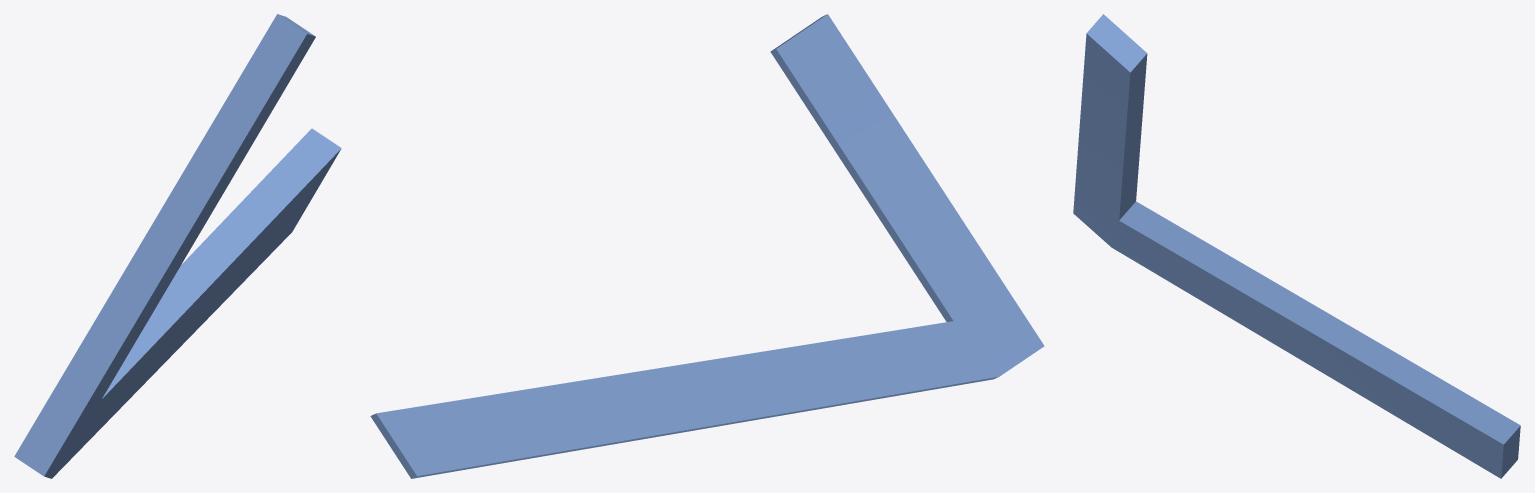
The model's file is New_Number_7.gltf.
3 views of the same model, side by side, from view 1: azimuth 30°, elevation 25°; view 2: azimuth 150°, elevation 25°; view 3: azimuth 270°, elevation 25° (orthographic). The views are drawn at different scales.
Parts seen in each view (by area): view 1: Part 358; view 2: Part 358; view 3: Part 358.
Part boxes in pixels (bbox=[...]): Part 358: bbox=[14, 14, 341, 478]; Part 358: bbox=[370, 14, 1044, 478]; Part 358: bbox=[1073, 14, 1520, 478].
Bounding box in the file's own units: 0.00493 × 0.00375 × 0.0042.
